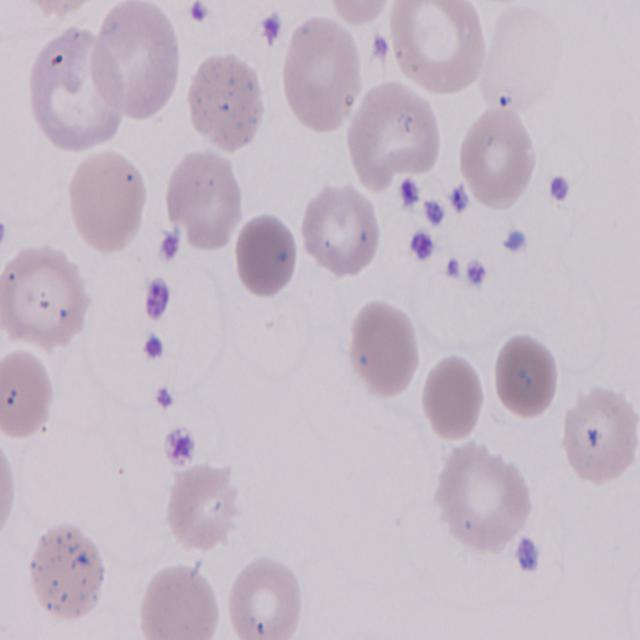Platelets: (514, 536, 543, 577)
RBC: (84, 2, 182, 132), (432, 441, 533, 560), (279, 14, 367, 140), (348, 79, 444, 192), (23, 516, 116, 628), (388, 0, 488, 99), (66, 146, 152, 260), (3, 242, 92, 352), (458, 100, 540, 212), (186, 46, 267, 154), (165, 142, 243, 252), (348, 294, 423, 408), (298, 182, 377, 287), (162, 461, 244, 558), (562, 382, 636, 486), (135, 560, 226, 640), (225, 554, 303, 640), (0, 342, 56, 446)
Spherocyte: (490, 332, 566, 422), (420, 353, 490, 445), (233, 214, 300, 304)
WBC: (16, 12, 172, 164)
